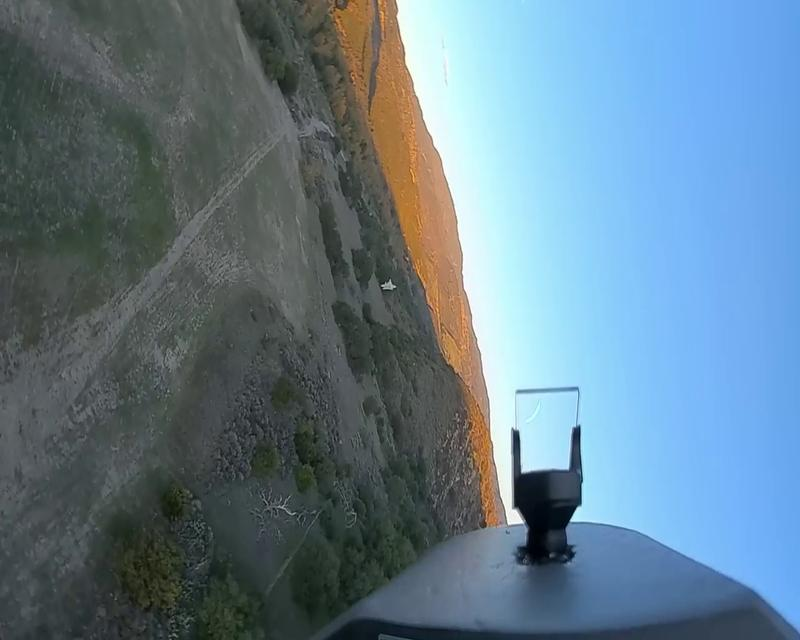UAV: (380, 276, 398, 292)
